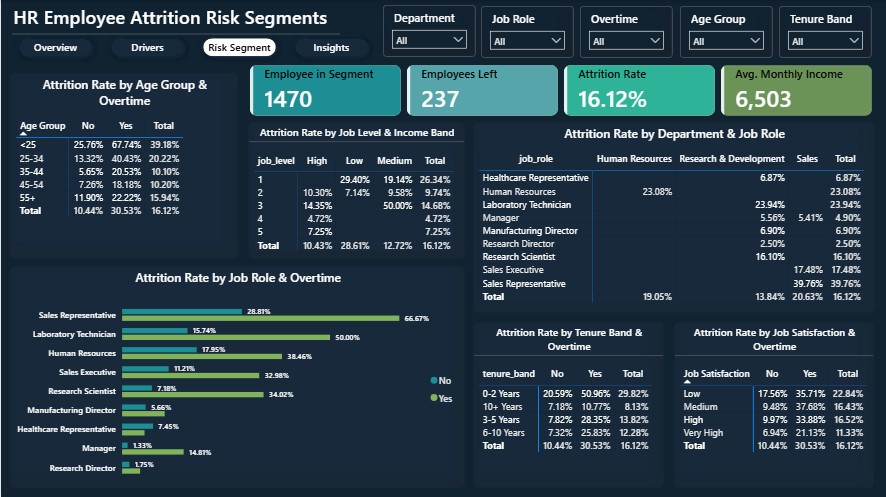

The dashboard page shown, as its layout file describes it:
{"tool":"powerbi","page":{"name":"Risk Segment","canvas":[1280,720],"ordinal":2},"visuals":[{"type":"cardVisual","fields":{"Data":["_Measures.Total Employees","_Measures.Employees Left","_Measures.Attrition Rate","_Measures.Average Monthly Income"]},"box":[342.7,76.6,936.9,108.4],"z":0},{"type":"pivotTable","title":"Attrition Rate by Job Satisfaction & Overtime","fields":{"Columns":["HR_Employee.overtime"],"Rows":["HR_Employee.job_satisfaction_label"],"Values":["_Measures.Attrition Rate"]},"box":[973,465.5,289.2,240],"z":1000},{"type":"pivotTable","title":"Attrition Rate by Age Group & Overtime","fields":{"Values":["_Measures.Attrition Rate"],"Columns":["HR_Employee.overtime"],"Rows":["HR_Employee.age_group"]},"box":[13,105.5,329.6,268.9],"z":2000},{"type":"pivotTable","title":"Attrition Rate by Tenure Band & Overtime","fields":{"Values":["_Measures.Attrition Rate"],"Columns":["HR_Employee.overtime"],"Rows":["HR_Employee.tenure_band"]},"box":[682.4,465.5,276.1,240],"z":3000},{"type":"clusteredBarChart","title":"Attrition Rate by Job Role & Overtime","fields":{"Category":["HR_Employee.job_role"],"Y":["_Measures.Attrition Rate"],"Series":["HR_Employee.overtime"]},"box":[13,384.6,657.8,321],"z":4000},{"type":"shape","box":[15.9,39,474.2,20.2],"z":5000},{"type":"textbox","box":[5.8,0,498.8,76.6],"z":6000},{"type":"slicer","fields":{"Values":["HR_Employee.department"]},"box":[552.3,7.2,134.5,75.2],"z":7000},{"type":"slicer","fields":{"Values":["HR_Employee.job_role"]},"box":[694,8.7,134.5,75.2],"z":8000},{"type":"slicer","fields":{"Values":["HR_Employee.overtime"]},"box":[837.1,8.7,134.5,75.2],"z":9000},{"type":"slicer","fields":{"Values":["HR_Employee.age_group"]},"box":[981.7,8.7,134.5,75.2],"z":10000},{"type":"pageNavigator","box":[17.3,46.3,524.8,44.8],"z":11000},{"type":"slicer","fields":{"Values":["HR_Employee.tenure_band"]},"box":[1124.8,8.7,134.5,75.2],"z":12000},{"type":"pivotTable","title":"Attrition Rate by Job Level & Income Band","fields":{"Values":["_Measures.Attrition Rate"],"Columns":["HR_Employee.income_band"],"Rows":["HR_Employee.job_level"]},"box":[357.1,176.4,313.7,198.1],"z":13000},{"type":"pivotTable","title":"Attrition Rate by Department & Job Role","fields":{"Values":["_Measures.Attrition Rate"],"Rows":["HR_Employee.job_role"],"Columns":["HR_Employee.department"]},"box":[682.4,176.4,581.2,276.1],"z":14000}]}

Visuals, with their boxes in screenshot pixels (x1, y1, x2, y2), scaled from the page's 1280x720 canvas onto the 886x497 screenshot:
cardVisual - _Measures.Total Employees x _Measures.Employees Left: select_region(237, 53, 885, 128)
"Attrition Rate by Job Satisfaction & Overtime" pivotTable: select_region(673, 321, 874, 487)
"Attrition Rate by Age Group & Overtime" pivotTable: select_region(9, 73, 237, 258)
"Attrition Rate by Tenure Band & Overtime" pivotTable: select_region(472, 321, 663, 487)
"Attrition Rate by Job Role & Overtime" clusteredBarChart: select_region(9, 265, 464, 487)
shape: select_region(11, 27, 339, 41)
textbox: select_region(4, 0, 349, 53)
slicer - HR_Employee.department: select_region(382, 5, 475, 57)
slicer - HR_Employee.job_role: select_region(480, 6, 573, 58)
slicer - HR_Employee.overtime: select_region(579, 6, 673, 58)
slicer - HR_Employee.age_group: select_region(680, 6, 773, 58)
pageNavigator: select_region(12, 32, 375, 63)
slicer - HR_Employee.tenure_band: select_region(779, 6, 872, 58)
"Attrition Rate by Job Level & Income Band" pivotTable: select_region(247, 122, 464, 259)
"Attrition Rate by Department & Job Role" pivotTable: select_region(472, 122, 875, 312)
